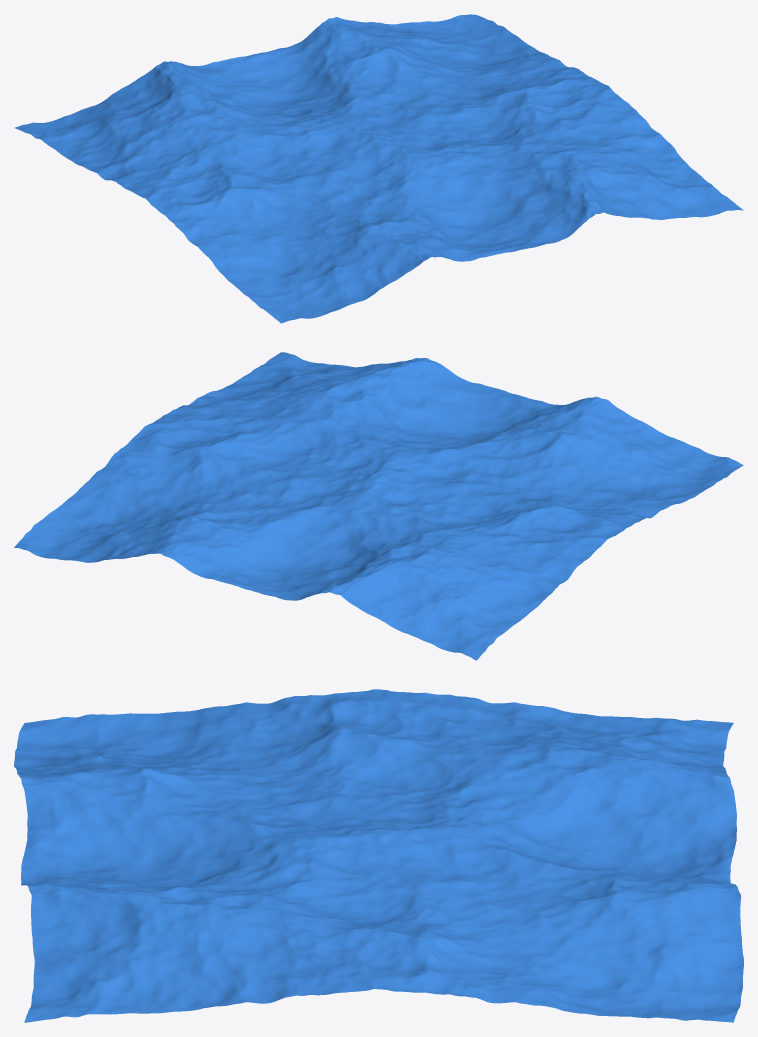
Rendered from try_1.glb.
3 views of the same model, one above another, from view 1: azimuth 30°, elevation 25°; view 2: azimuth 150°, elevation 25°; view 3: azimuth 270°, elevation 25° (orthographic). The views are drawn at different scales.
Visible parts, largest first — view 1: Plane; view 2: Plane; view 3: Plane.
Boxes of the visible parts, x1,y1,x2,y2 form: Plane: (14,14,743,323); Plane: (14,352,743,660); Plane: (14,689,743,1022).
Bounding box in the file's own units: 9.5 × 0.7347 × 9.64.
